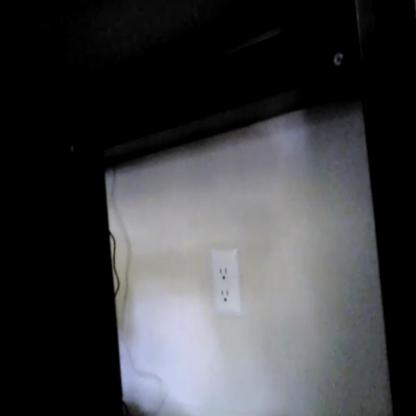OUTLET: (212, 248, 241, 313)
